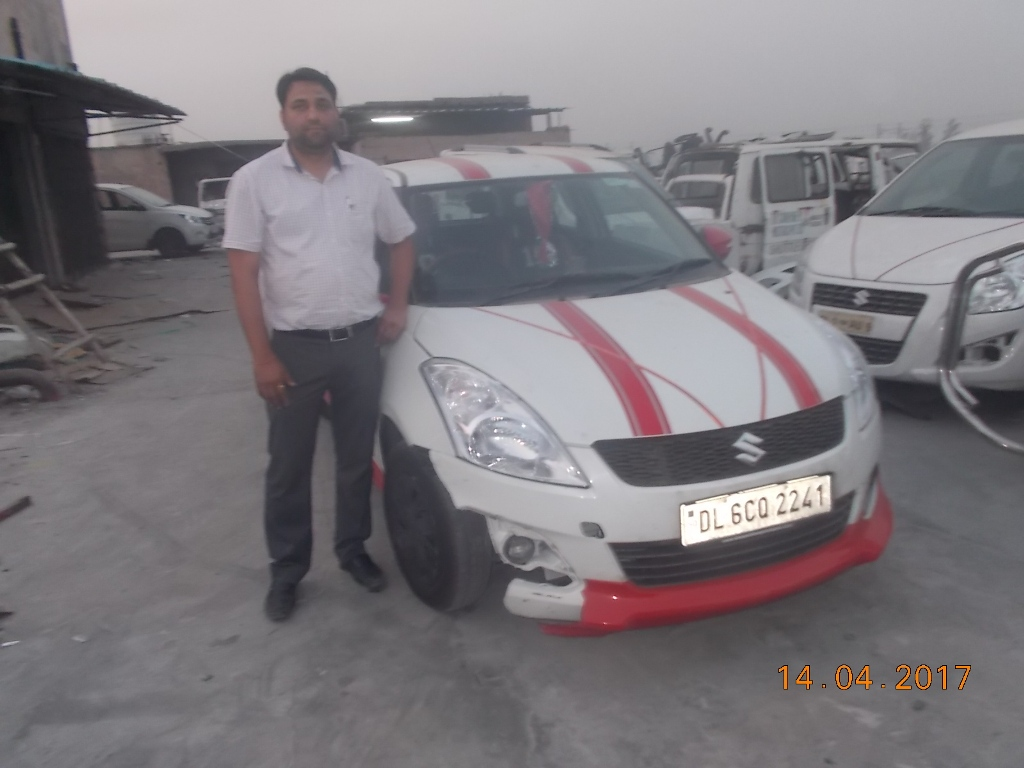Tear: (495, 559, 565, 631), (430, 453, 459, 512)
